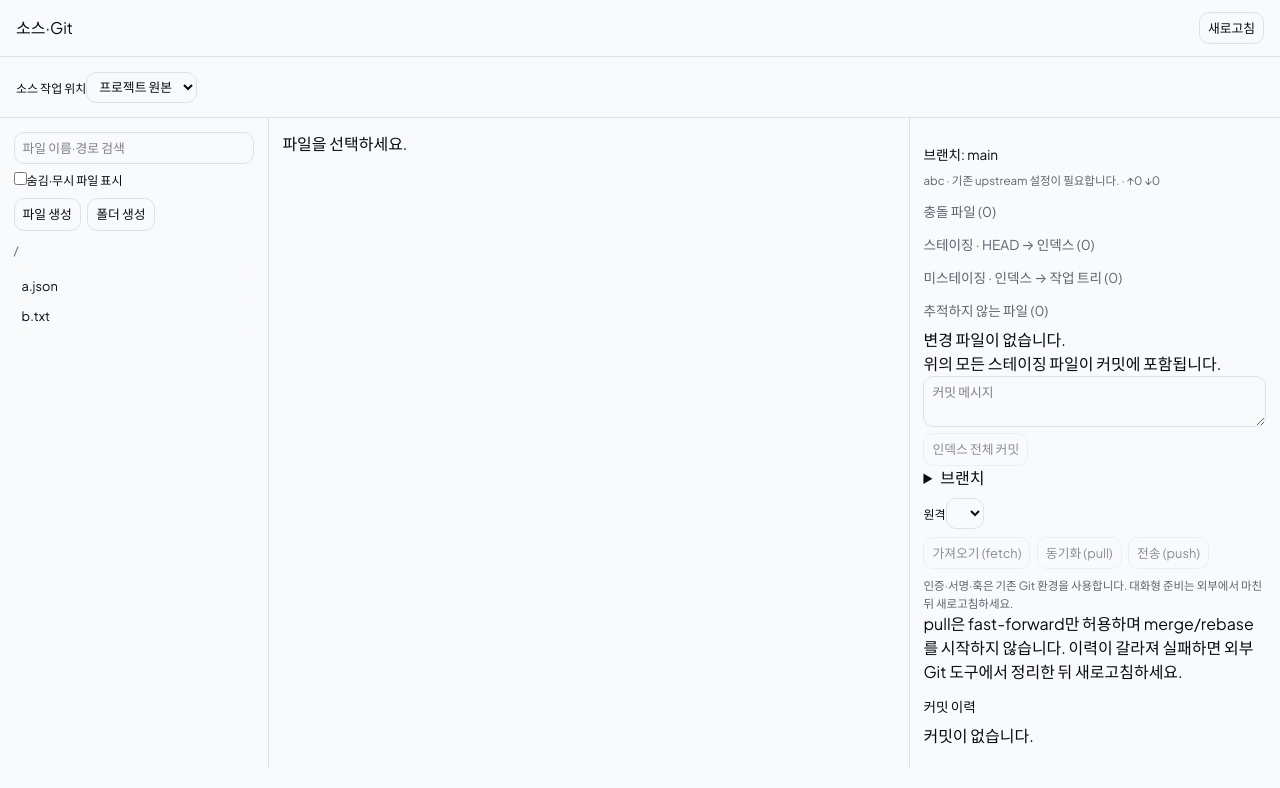
Test case: keeps the editor available and warns when recovery storage cannot be read
The width and height of the screenshot is (1280, 788).
Click the button "a.json" at [134, 286], box [14,271,254,302]
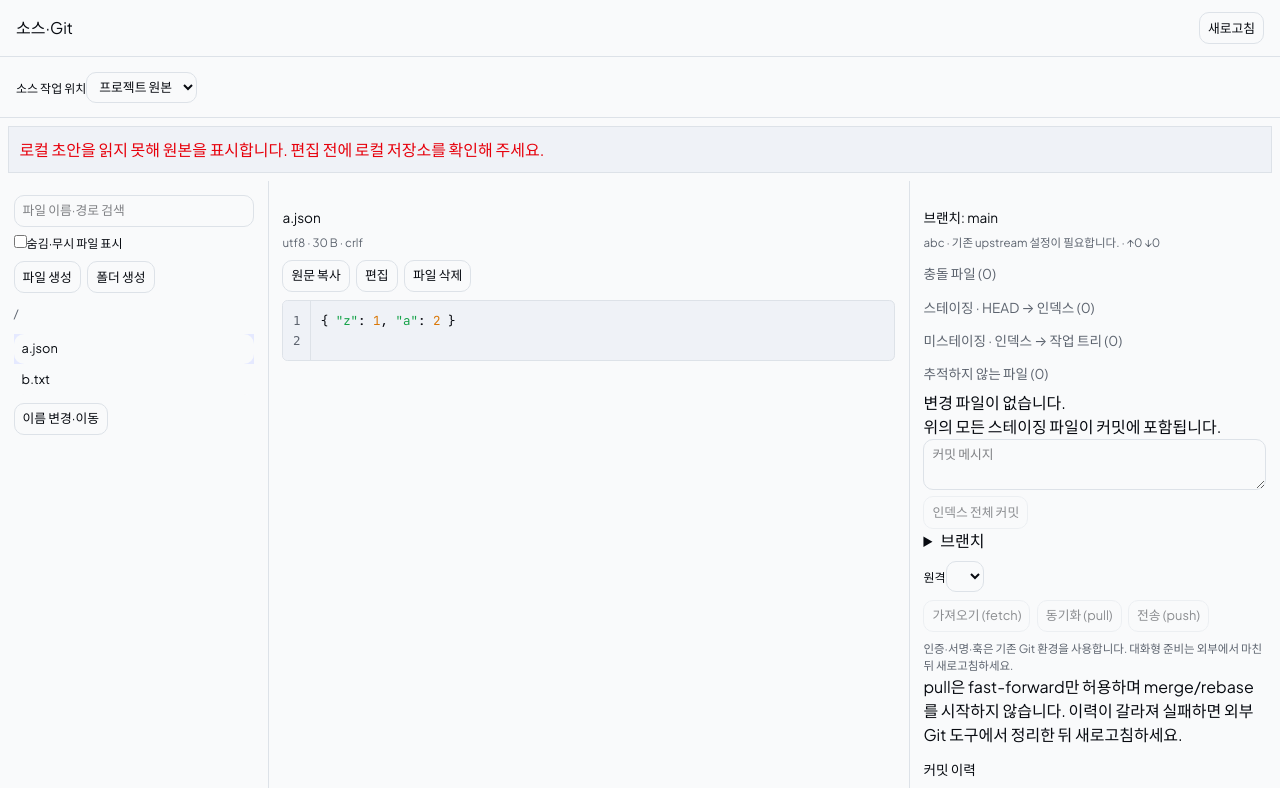
Now the element with test id "project-source" shows "\"z\": 1", box [282,300,895,361]
Now the text "로컬 초안을 읽지 못해 원본을 표시합니다. 편집 전에 로컬 저장소를 확인해 주세요." is shown, box [8,126,1272,173]
